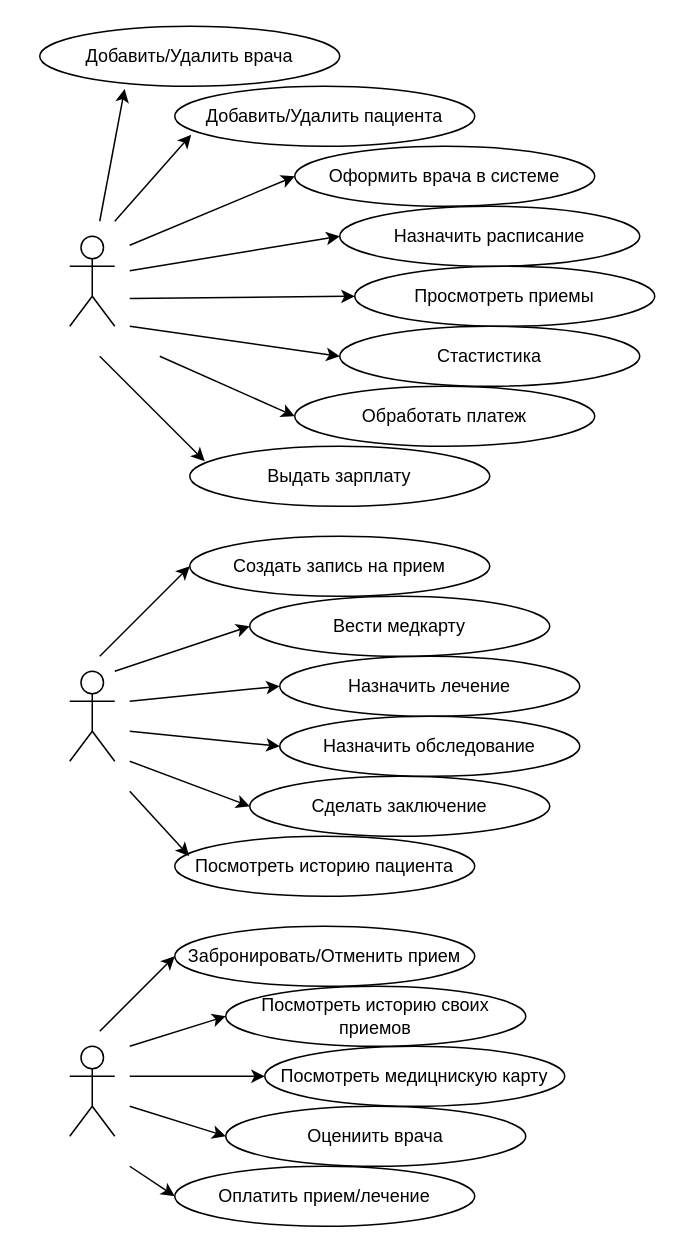
Some shapes in this 681 by 1253 pixel diagram are drawn without their labels. The box of each missing label's shape, as (x1, y1, x2, y2) in pixels:
Администрация: (68, 235, 115, 326)
Доктор: (68, 670, 115, 761)
Пациент: (68, 1045, 115, 1136)
